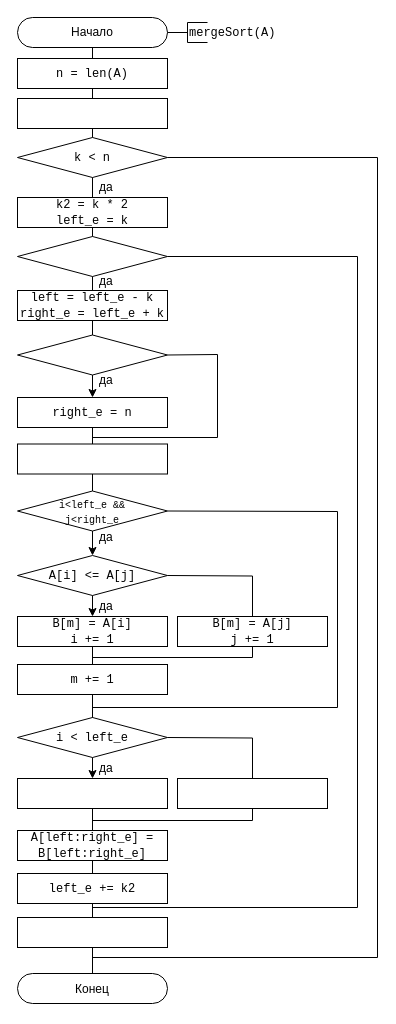
Image size: 396x1024. Some labels were removed from this diagram. Here are the shapes that lost their labels. From the top down, the box of each, then its label:
(16, 98, 168, 128): arr B[n] k = 1
(16, 236, 168, 276): left_e < n
(16, 334, 168, 375): right_e > n
(16, 443, 168, 474): m = i = left j = lef_e
(16, 778, 168, 808): B[m:right_e] = A[i:left_e]
(176, 778, 328, 808): B[m:right_e] = A[j:right_e]
(16, 916, 168, 948): k *= 2
